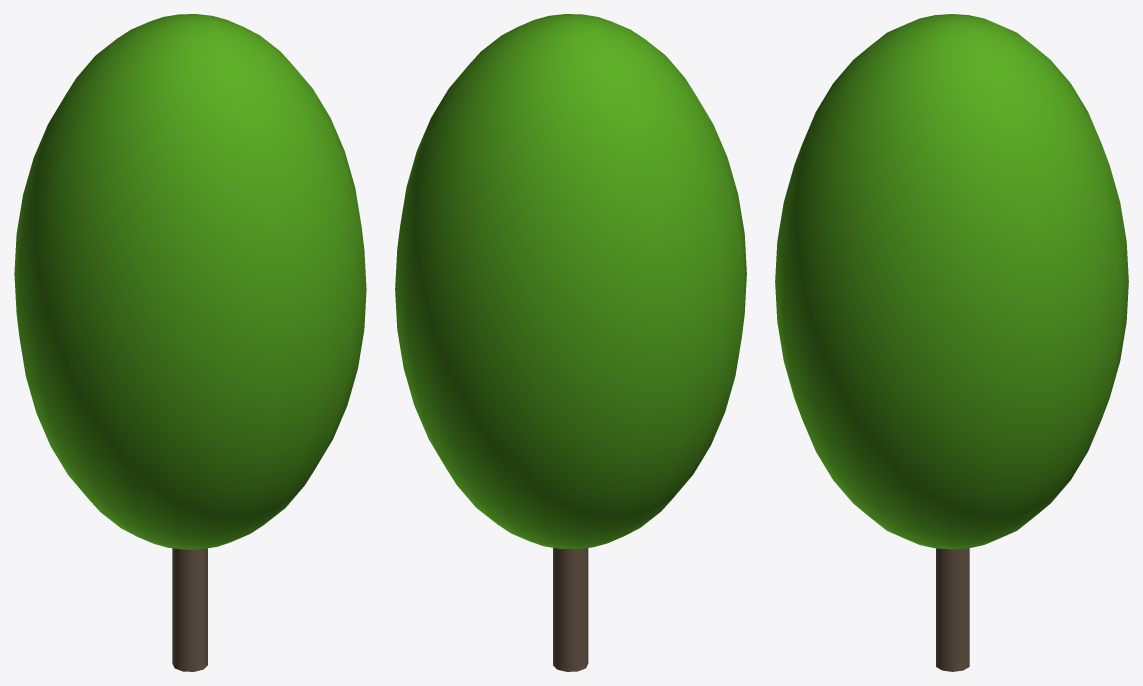
The model's file is Isl_20_Tree_2.fbx.
The picture shows the model from 3 angles, left to right: view 1: azimuth 30°, elevation 25°; view 2: azimuth 150°, elevation 25°; view 3: azimuth 270°, elevation 25°; orthographic projection.
Visible parts, largest first — view 1: Isl_20_Tree_2; view 2: Isl_20_Tree_2; view 3: Isl_20_Tree_2.
Boxes of the visible parts, <box> form: Isl_20_Tree_2: <box>14,14,366,671</box>; Isl_20_Tree_2: <box>395,14,746,671</box>; Isl_20_Tree_2: <box>775,14,1128,671</box>.
Bounding box in the file's own units: 248 × 248 × 495.
1 material, 1 textured.
